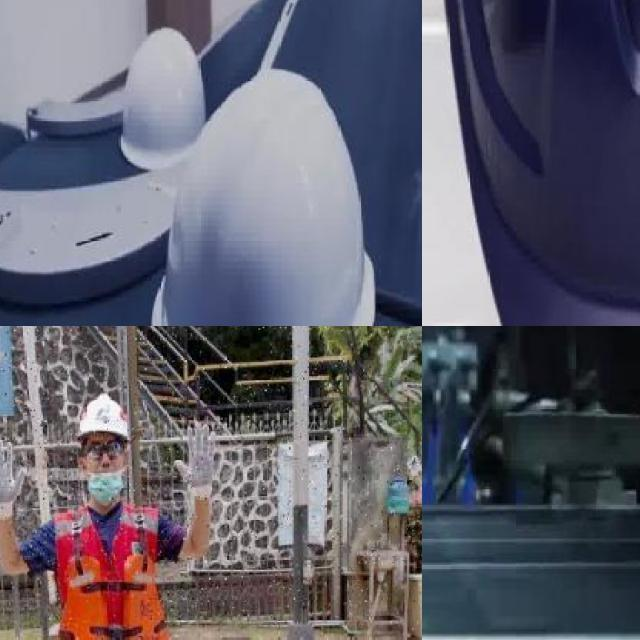apron: (172, 420, 218, 500), (0, 435, 27, 520)
